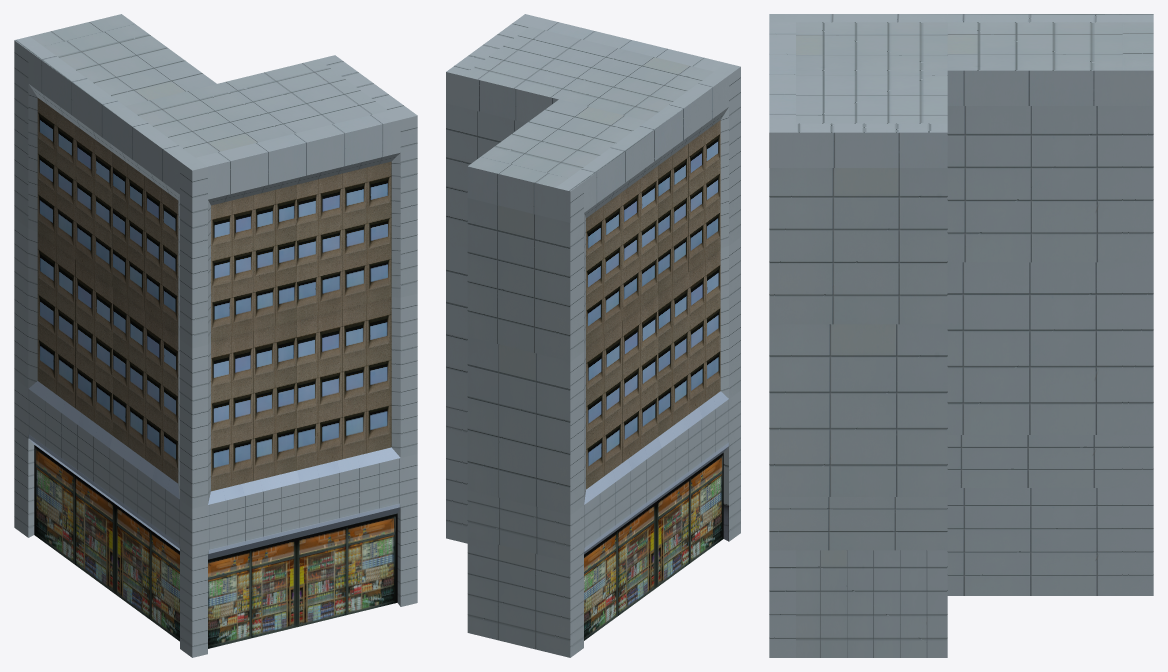
The model's file is house10.FBX.
3 renders of one model, left to right at view 1: azimuth 30°, elevation 25°; view 2: azimuth 150°, elevation 25°; view 3: azimuth 270°, elevation 25°, orthographic. The views are drawn at different scales.
Visible parts, largest first — view 1: Box002; view 2: Box002; view 3: Box002.
Boxes of the visible parts, bbox=[...] form: Box002: bbox=[14, 14, 417, 657]; Box002: bbox=[446, 14, 740, 657]; Box002: bbox=[769, 14, 1153, 657].
Bounding box in the file's own units: 94.89 × 196 × 130.
